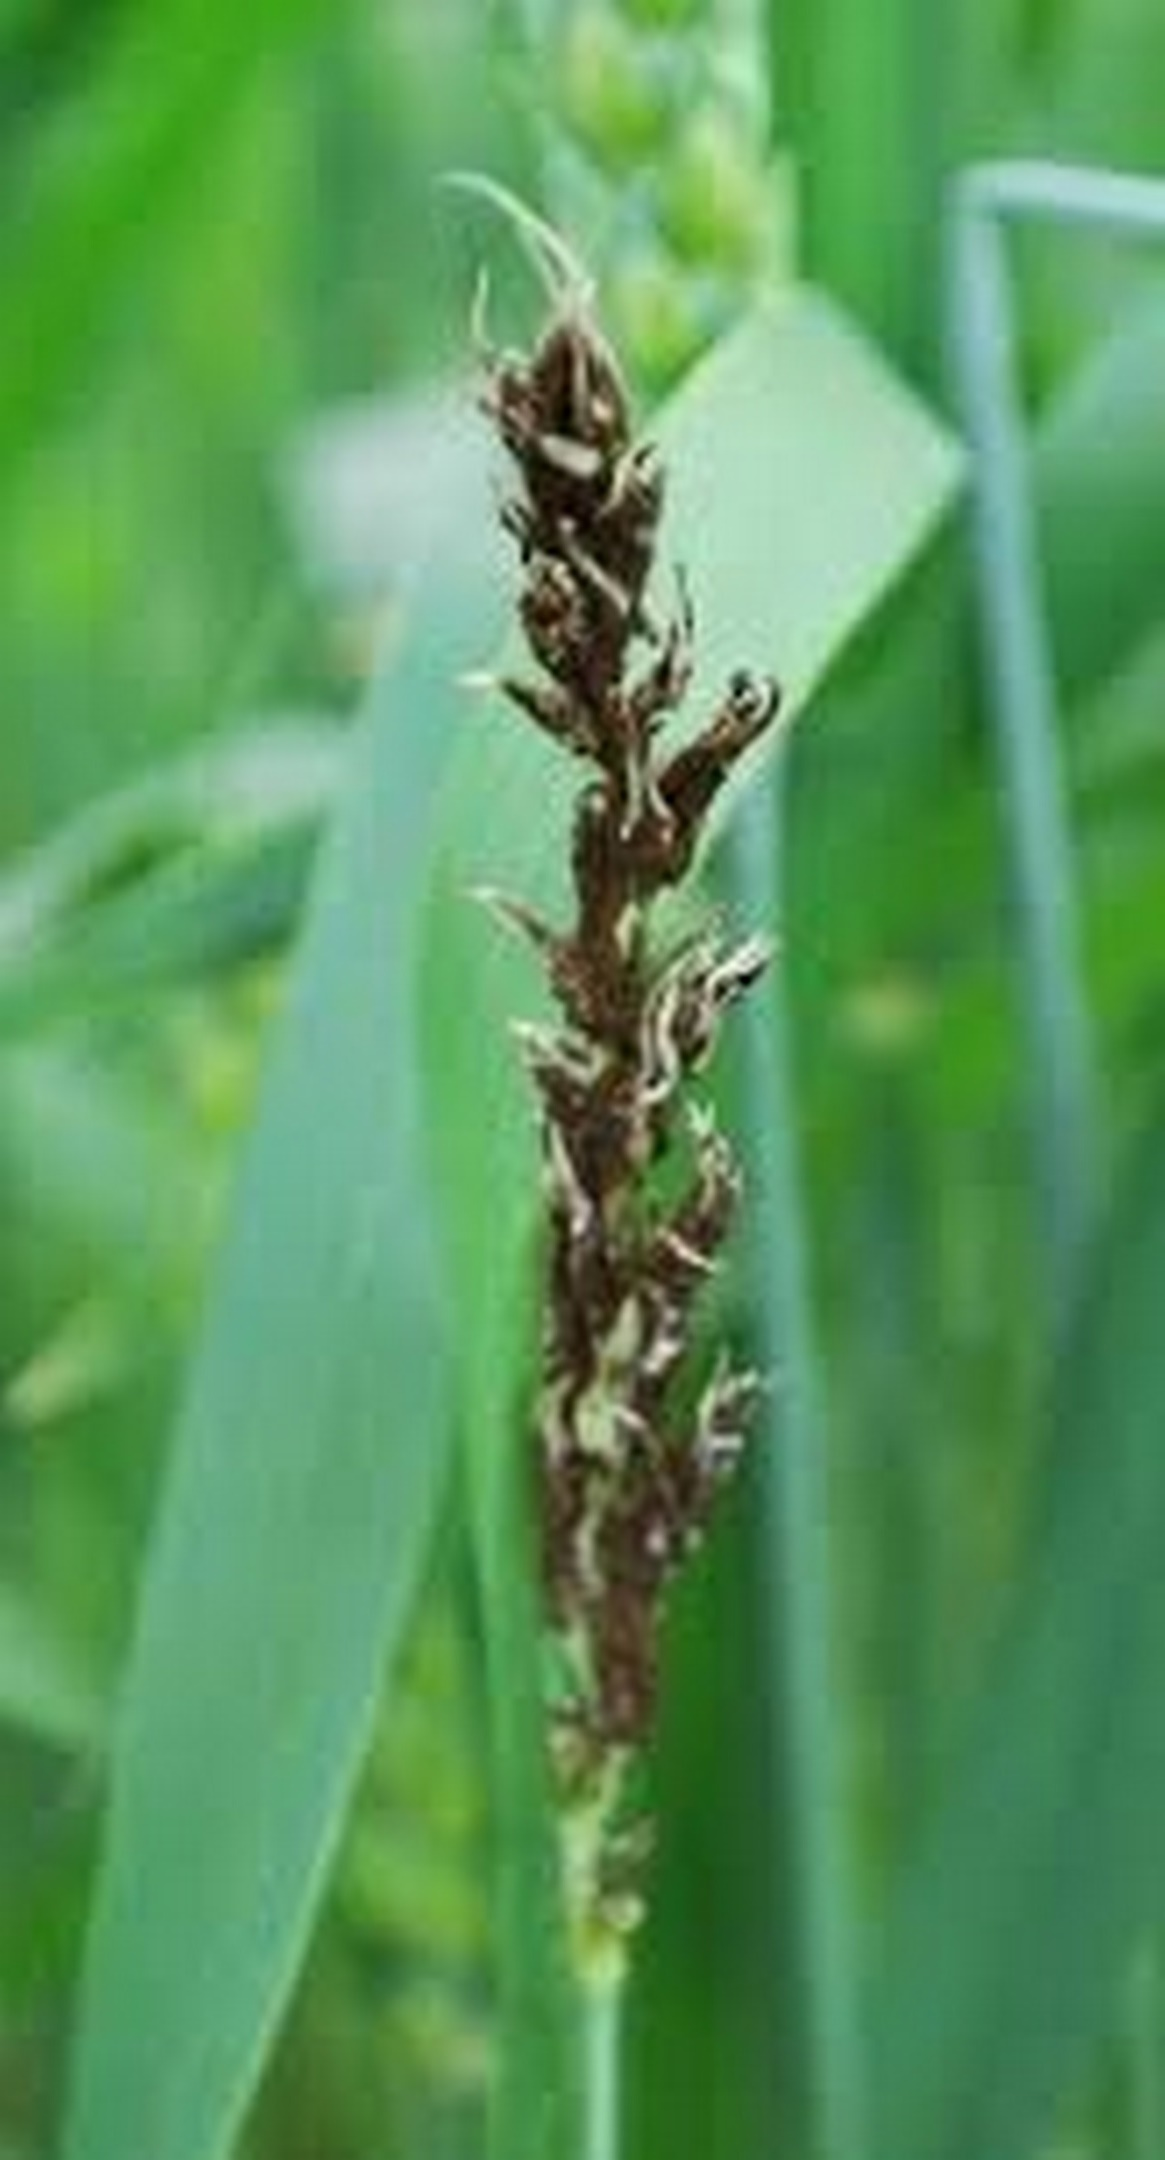Wheat Loose Smut: (409, 262, 832, 1733)
